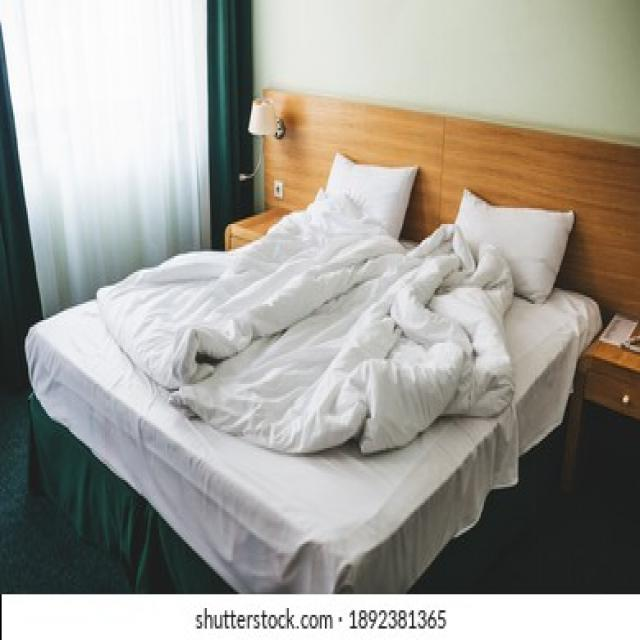bed: (52, 169, 599, 495)
